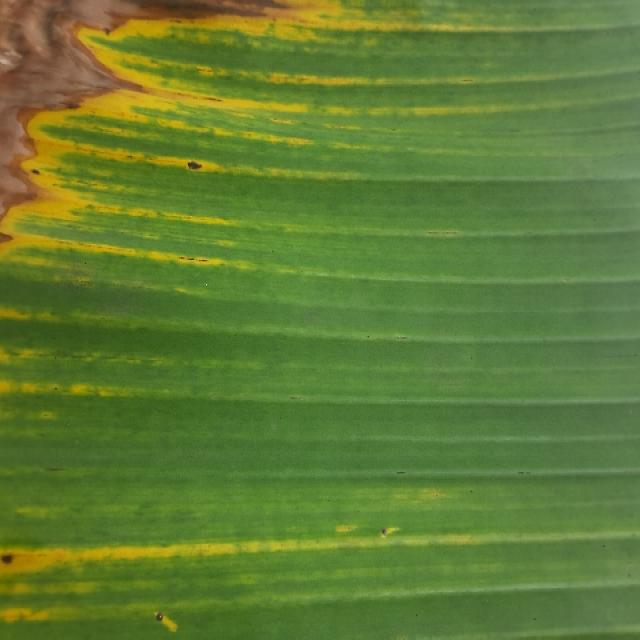Cordana: (0, 0, 540, 639)
